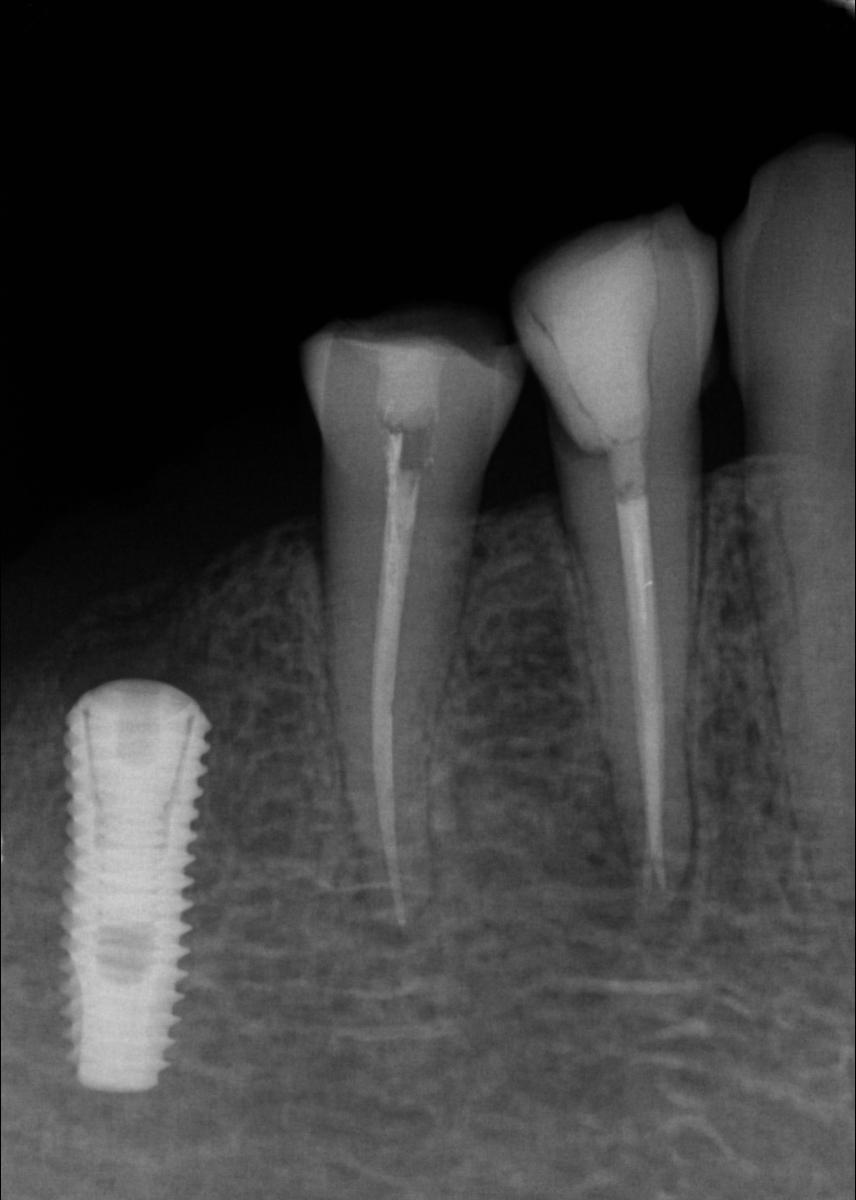Furcation Involvement: (571, 745, 699, 956), (347, 831, 414, 951)
